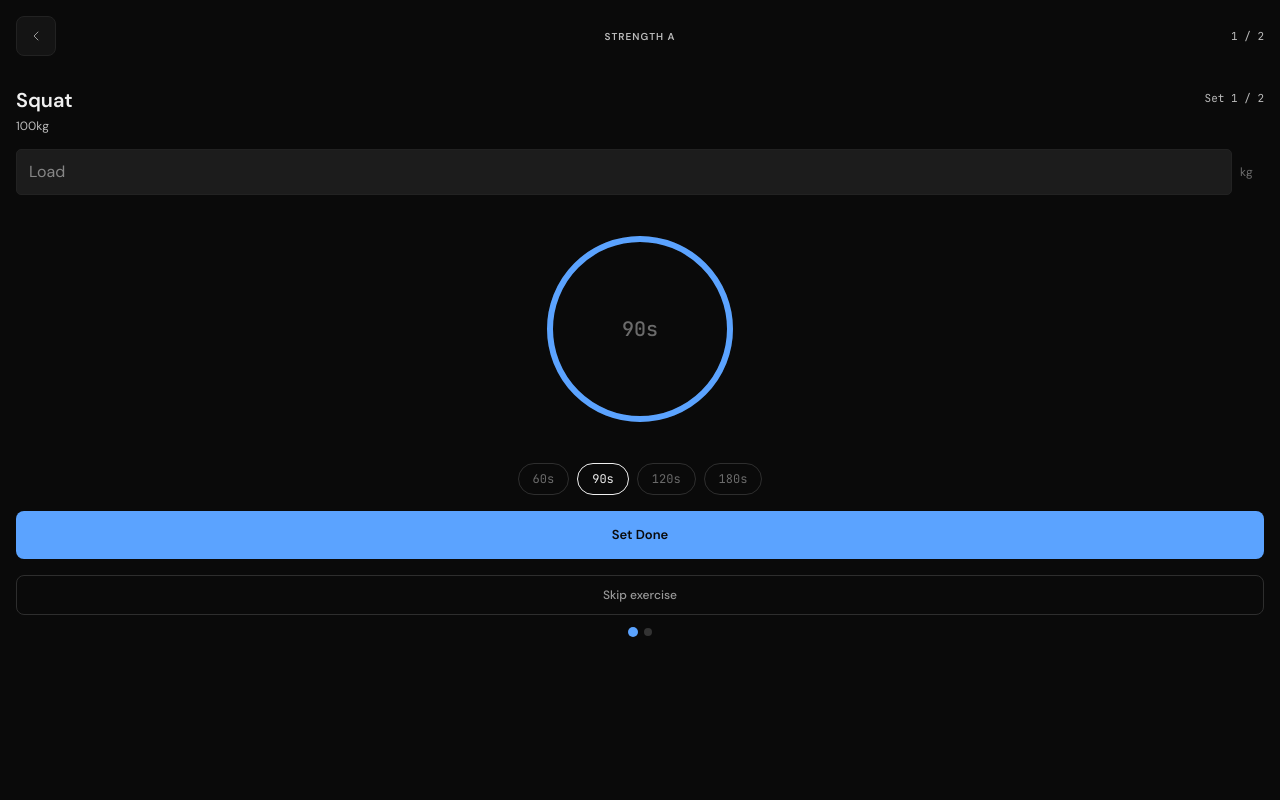
Test: WorkoutMode — set flow › "Skip Rest" advances to next set within same exercise
Click the button "Set Done" at (640, 535), box 16,511 -> 1264,558
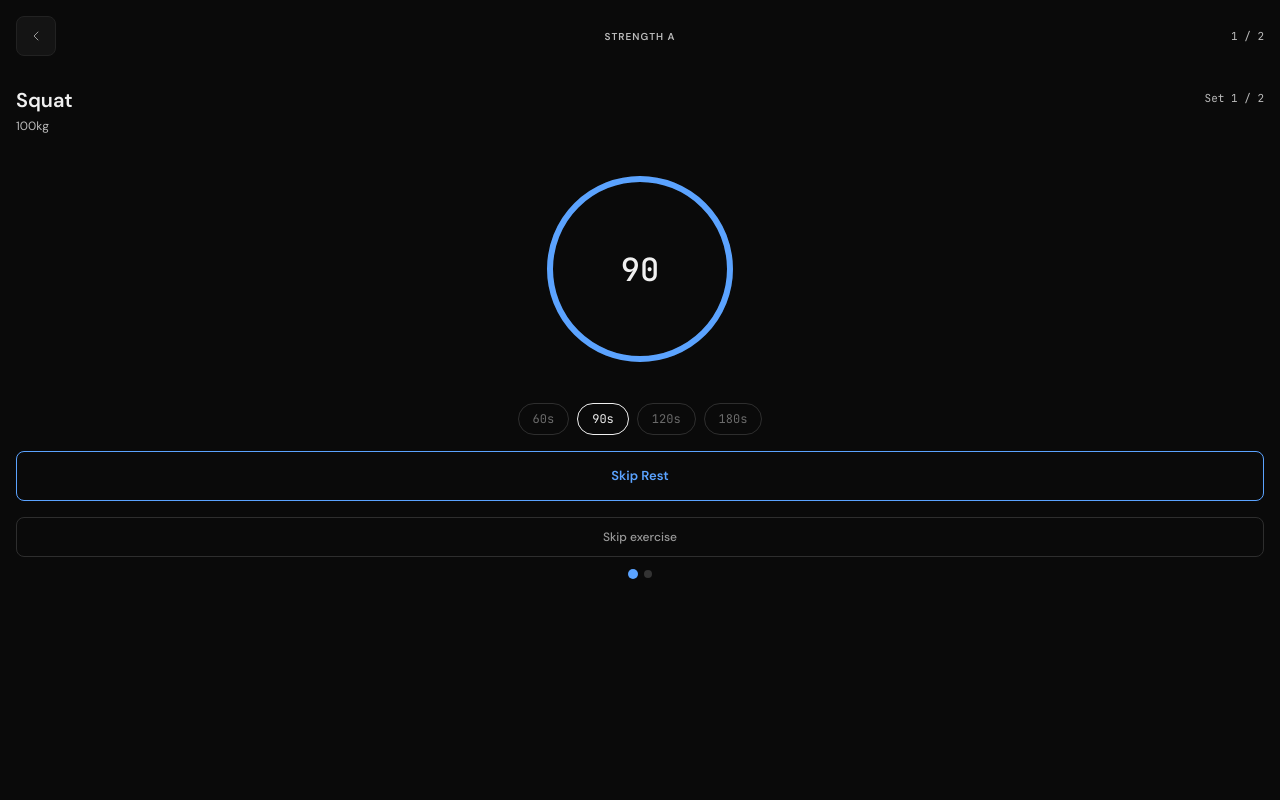
Click the button "Skip Rest" at (640, 476), box 16,451 -> 1264,500
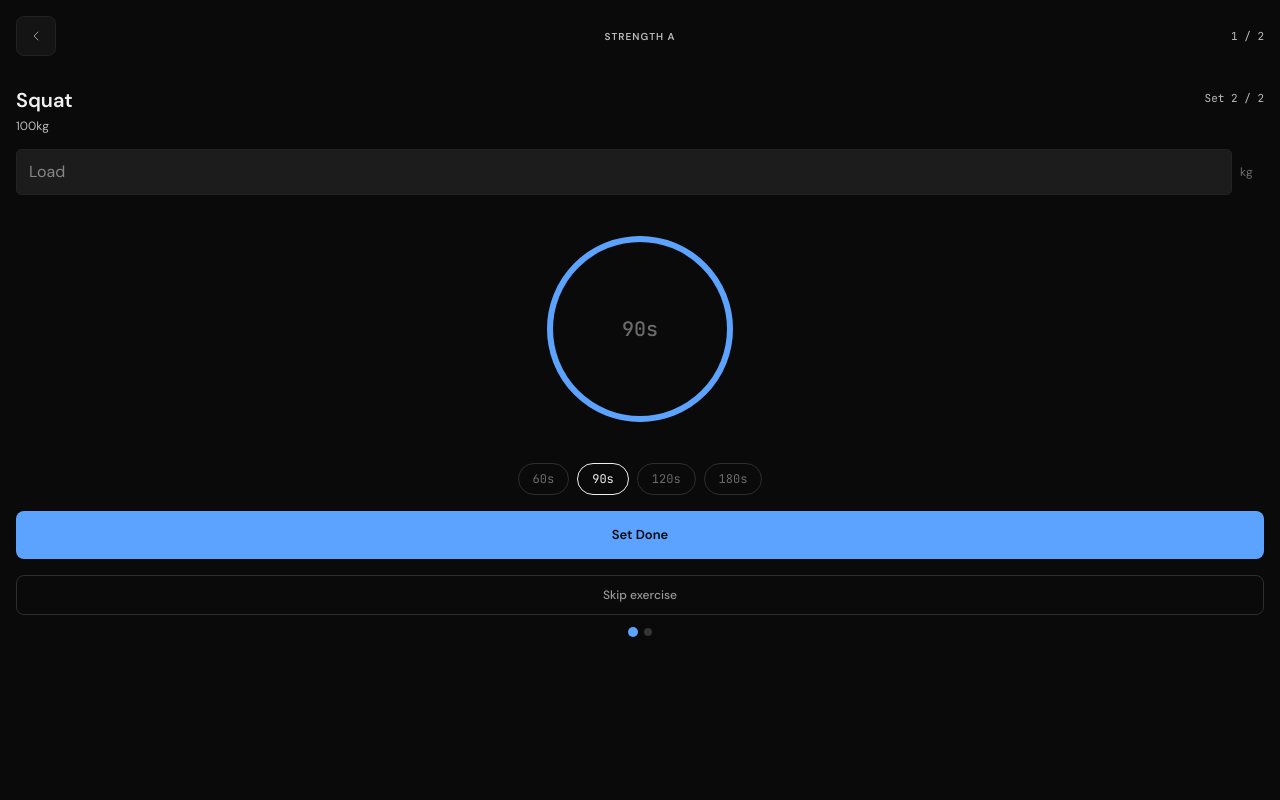
Expected: the text "Squat" is shown, 16,87 -> 73,113
Now the text "Set 2 / 2" is shown, box 1205,91 -> 1264,105
